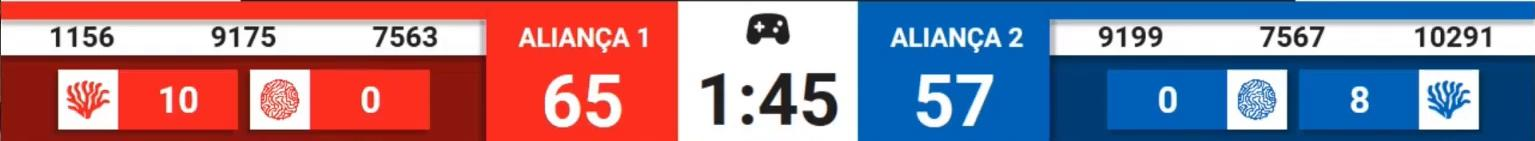blue_score: (914, 72, 995, 130)
red_score: (542, 72, 625, 130)
team_number: (1413, 24, 1492, 49), (1256, 24, 1327, 49), (1095, 25, 1166, 49), (370, 24, 440, 48), (50, 24, 116, 49), (210, 24, 278, 48)
timer: (702, 71, 838, 127)
